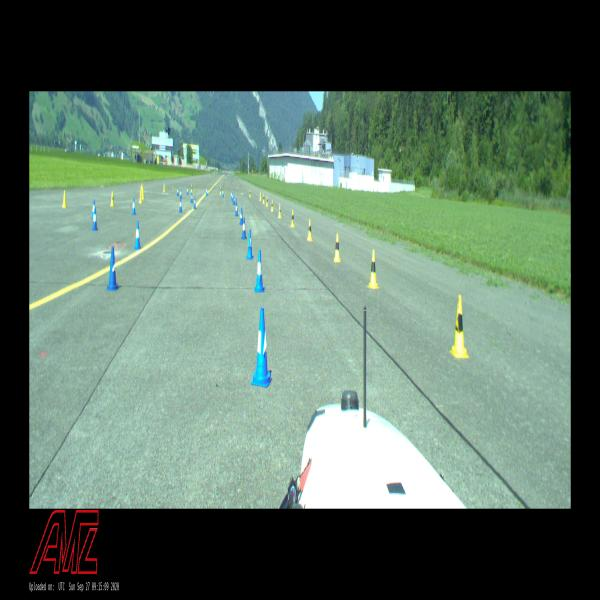blue_cone: (251, 308, 272, 387), (106, 246, 119, 291), (254, 249, 264, 292), (246, 229, 254, 259), (134, 220, 141, 250), (92, 209, 98, 230), (242, 217, 246, 239), (132, 199, 136, 214), (92, 200, 95, 218), (179, 198, 182, 212), (235, 203, 238, 216), (235, 198, 238, 211), (190, 192, 193, 203), (240, 208, 242, 224), (179, 189, 182, 198), (194, 196, 196, 209), (176, 186, 178, 196), (206, 186, 208, 196), (186, 186, 188, 195), (233, 195, 235, 204), (222, 188, 224, 197), (231, 190, 232, 200), (232, 193, 233, 202)
yellow_cone: (450, 295, 469, 358), (368, 249, 379, 288), (334, 233, 340, 262), (307, 219, 313, 241), (62, 190, 67, 207), (290, 209, 294, 227), (110, 191, 114, 206), (278, 204, 281, 218), (139, 191, 142, 204), (259, 192, 262, 201), (140, 185, 142, 197), (271, 200, 273, 211), (263, 193, 265, 204), (142, 188, 144, 199), (266, 196, 268, 206), (141, 182, 143, 192), (163, 183, 165, 192), (191, 184, 193, 192), (220, 186, 222, 194), (249, 190, 251, 197)
